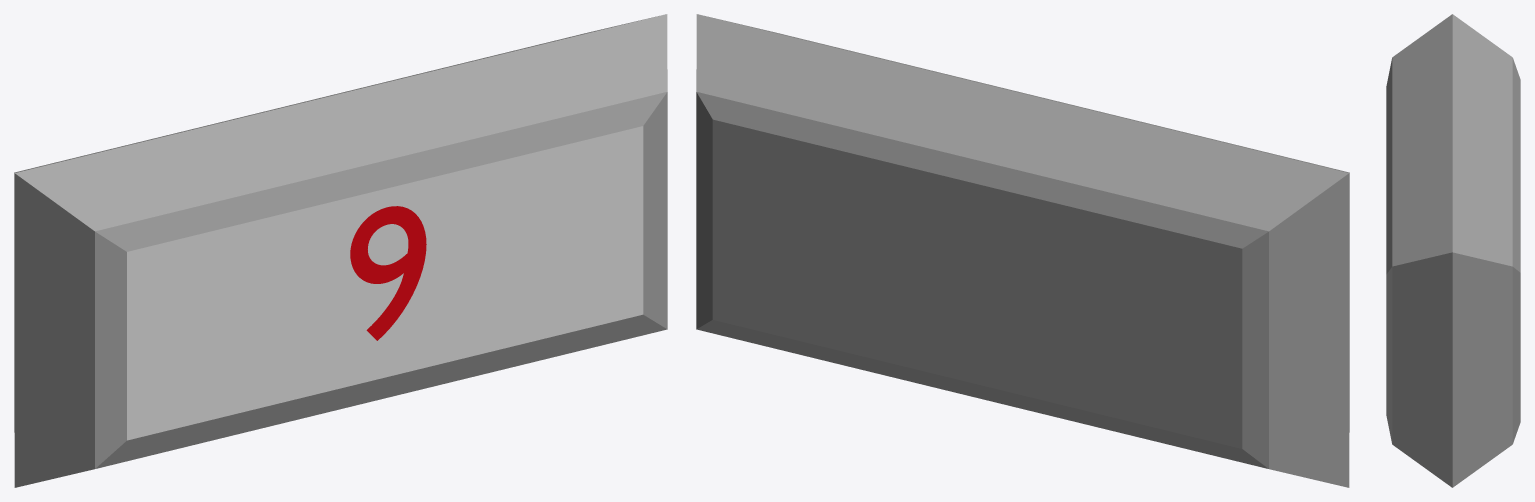
The model's file is number9.fbx.
The picture shows the model from 3 angles, left to right: view 1: azimuth 30°, elevation 25°; view 2: azimuth 150°, elevation 25°; view 3: azimuth 270°, elevation 25°; orthographic projection. The views are drawn at different scales.
Parts seen in each view (by area): view 1: Cube, Text; view 2: Cube; view 3: Cube.
Part boxes in pixels (x1,y1,x2,y2): Cube: [14, 14, 667, 487]; Text: [350, 206, 426, 340]; Cube: [696, 14, 1349, 487]; Cube: [1386, 14, 1520, 487].
Bounding box in the file's own units: 1735 × 800 × 437.
